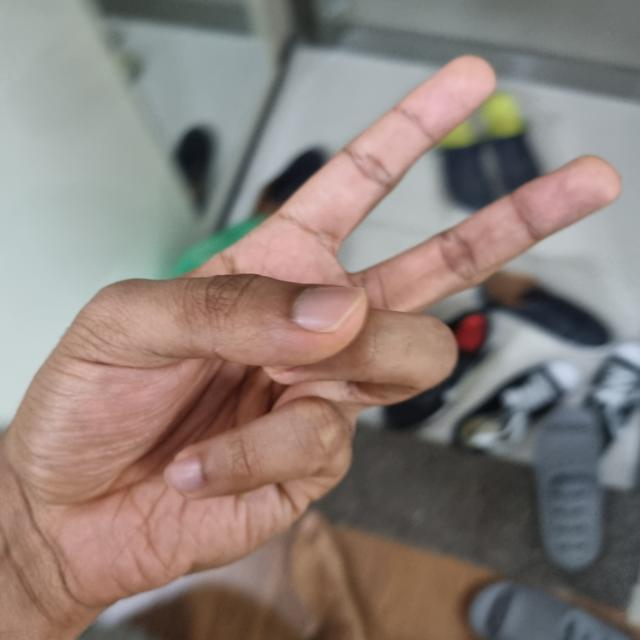Scissors: (7, 58, 629, 632)
